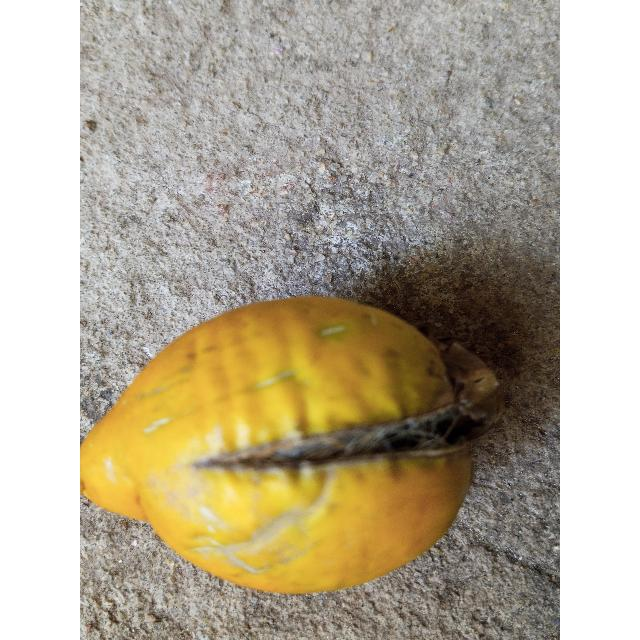damaged: (80, 295, 502, 597)
